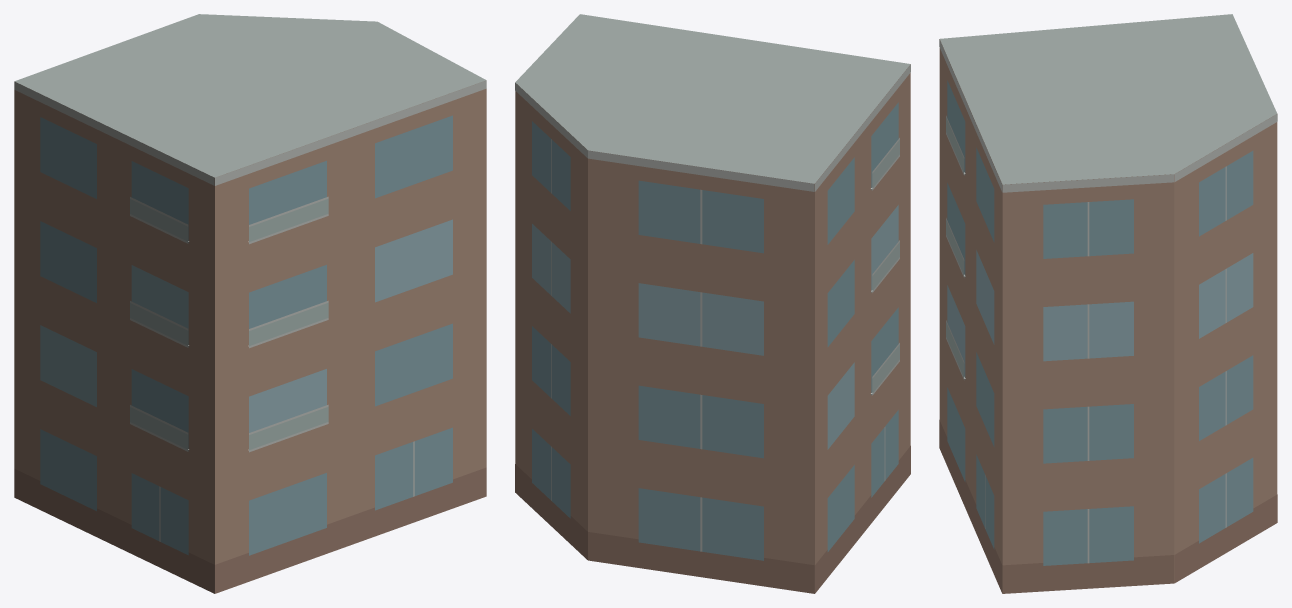
File: survey-upis-32581628.glb
The picture shows the model from 3 angles, left to right: view 1: azimuth 30°, elevation 25°; view 2: azimuth 150°, elevation 25°; view 3: azimuth 270°, elevation 25°; orthographic projection.
Visible parts, largest first — view 1: survey-upis-32581628.tmp; view 2: survey-upis-32581628.tmp; view 3: survey-upis-32581628.tmp.
Boxes of the visible parts, x1=… form: survey-upis-32581628.tmp: x1=14, y1=14, x2=486, y2=593; survey-upis-32581628.tmp: x1=515, y1=14, x2=910, y2=593; survey-upis-32581628.tmp: x1=939, y1=14, x2=1277, y2=593.
Bounding box in the file's own units: 10.91 × 12.2 × 9.14.
